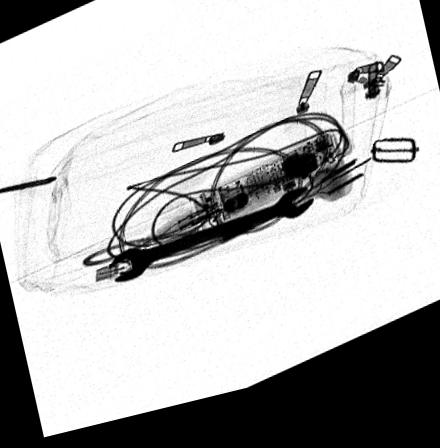Wrench: (105, 203, 313, 289)
